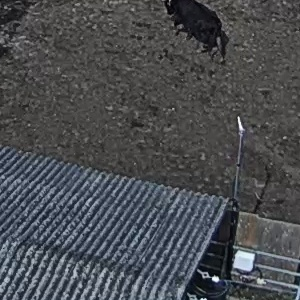cow: (160, 1, 246, 63)
